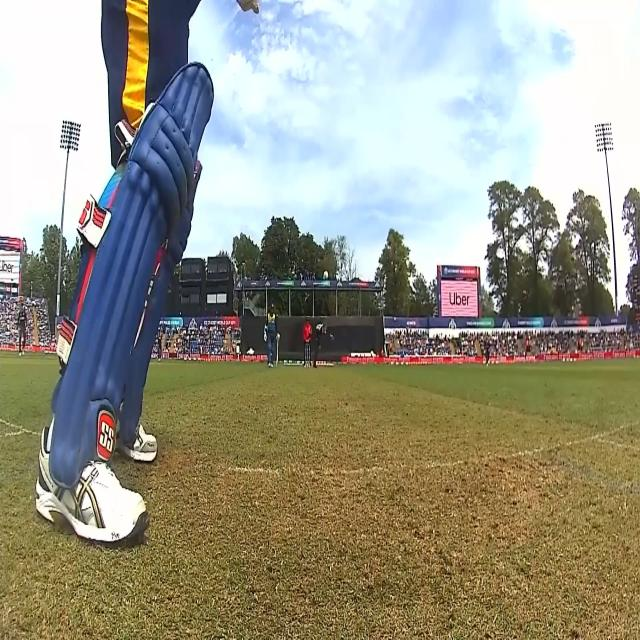ball: (321, 266, 331, 285)
